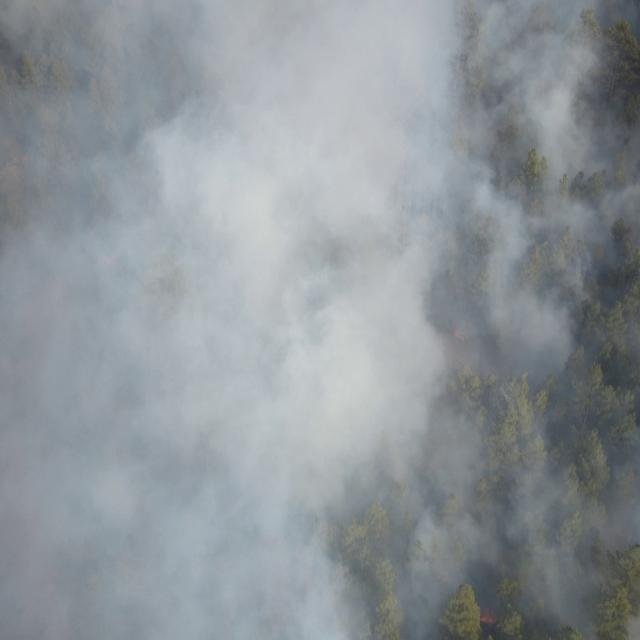fire: (477, 609, 499, 627), (452, 328, 472, 343), (14, 153, 32, 168)
smoke: (0, 0, 640, 640)
